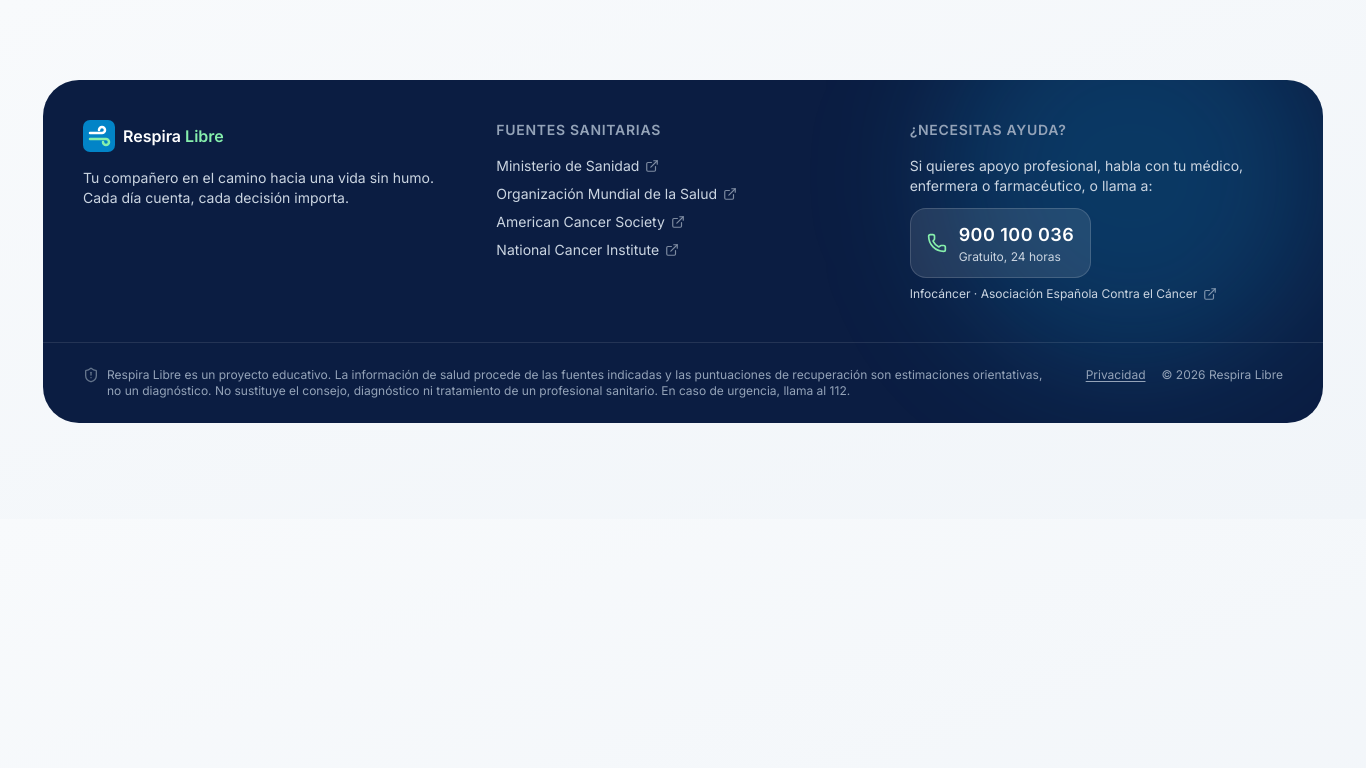
Test: Privacidad (desde el footer) › abre el diálogo de privacidad desde el enlace del footer
Click the button "Privacidad": (1116, 375) [1086, 367, 1146, 383]
(page scrolled)
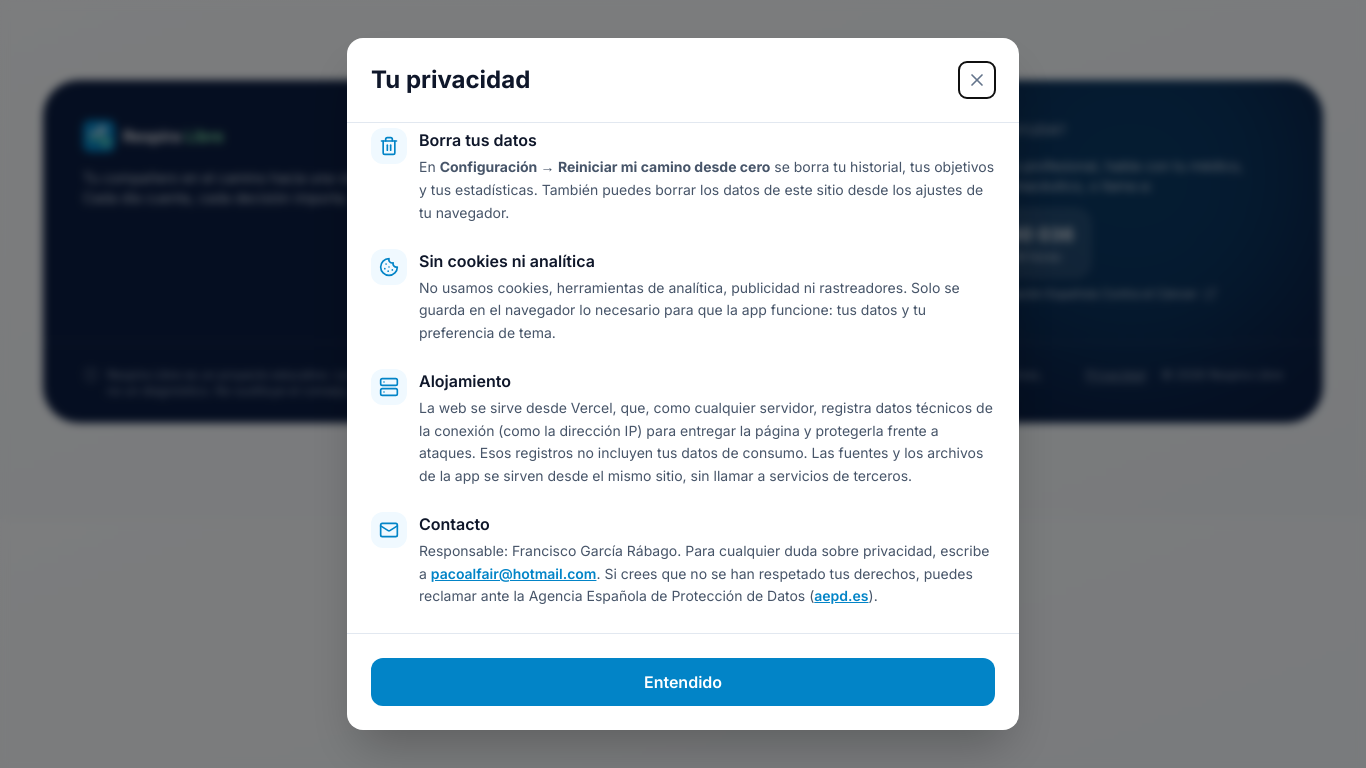
Expected: the dialog "Tu privacidad" shows "No usamos cookies", [419, 279, 960, 341]
